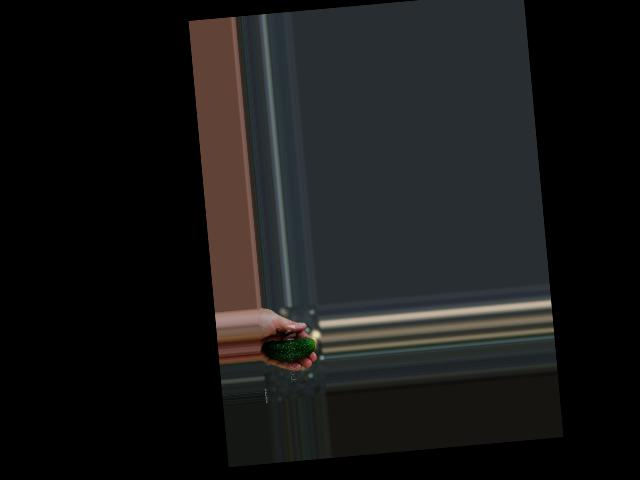cucumber: (262, 337, 315, 364)
